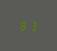eight: (19, 19, 27, 30)
three: (28, 19, 36, 31)
